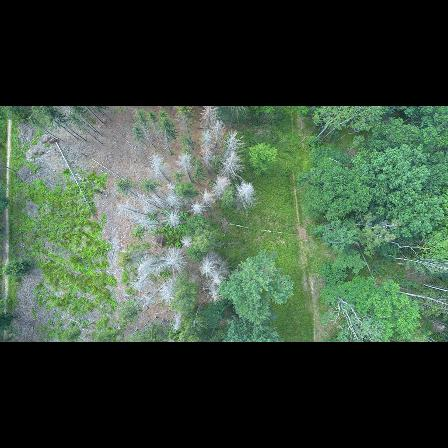Dead: (158, 249, 186, 271), (217, 151, 239, 179), (233, 183, 256, 208), (219, 129, 242, 154), (147, 188, 172, 208), (160, 276, 178, 303), (131, 270, 154, 291), (169, 307, 188, 332), (152, 153, 169, 179), (200, 132, 214, 163), (141, 285, 160, 307), (122, 186, 146, 203), (180, 152, 193, 182), (115, 203, 147, 215), (210, 178, 230, 196), (138, 252, 155, 270), (169, 184, 186, 202), (165, 209, 181, 228), (215, 120, 225, 148), (203, 108, 215, 131), (200, 187, 213, 206), (199, 259, 215, 274), (147, 200, 166, 212), (207, 287, 220, 304), (189, 201, 204, 215), (210, 273, 224, 286), (180, 235, 192, 249), (141, 222, 163, 226)
